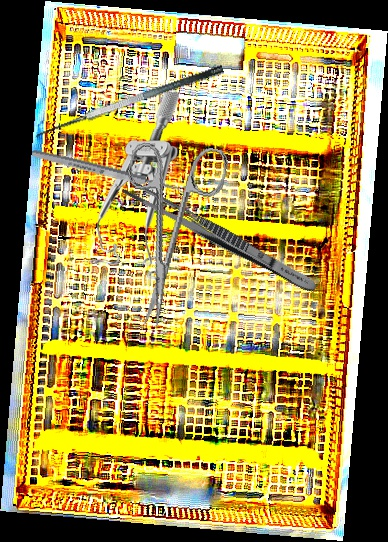Dressing Forceps: (120, 177, 321, 297)
Iris Scissors: (100, 133, 230, 335)
Spatula Surgical: (32, 63, 230, 151)
Speculum: (93, 90, 180, 282)
Surgical Spoon: (30, 147, 195, 199)
